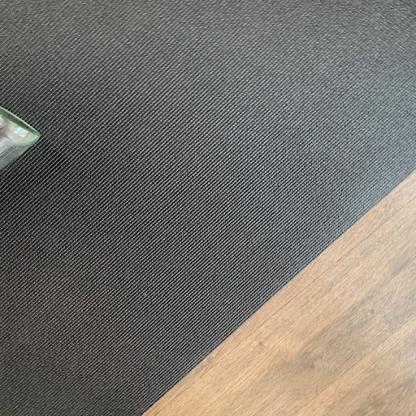trash: (0, 100, 48, 176)
